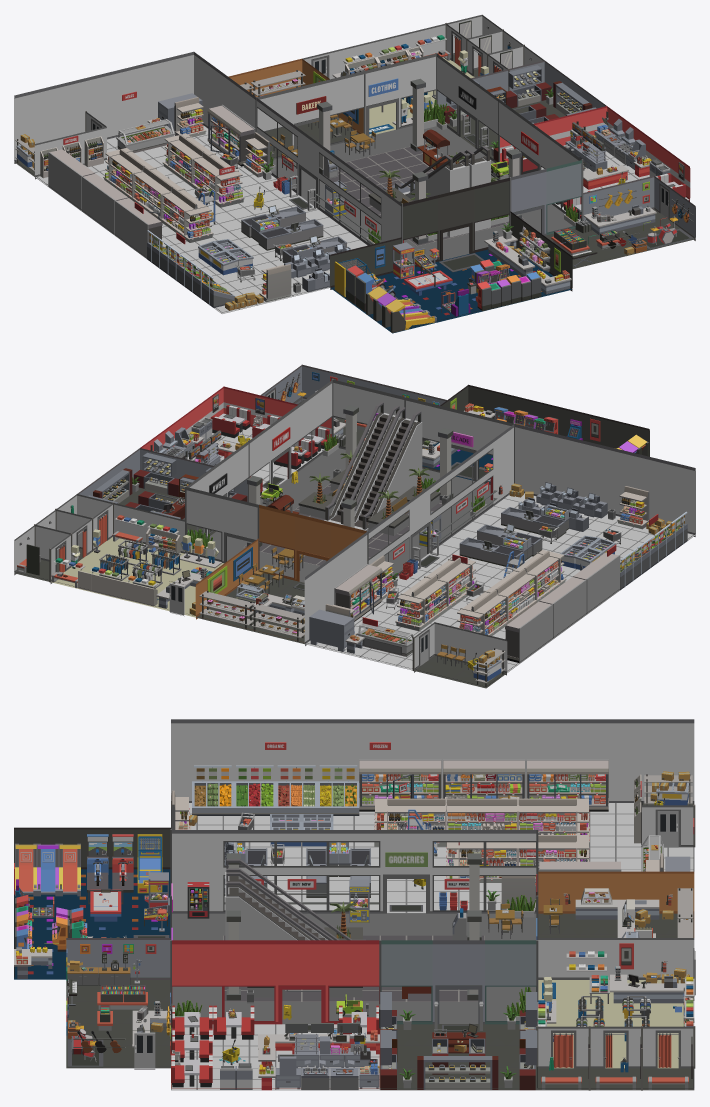
Rendered from _Demo.glb.
3 renders of one model, top to bottom at view 1: azimuth 30°, elevation 25°; view 2: azimuth 150°, elevation 25°; view 3: azimuth 270°, elevation 25°, orthographic. The views are drawn at different scales.
Visible parts, largest first — view 1: SI_Prop_Shelf_Freezer_Preset_01 (×3), SI_Prop_CheckoutCounter_01 (×3), SI_Prop_Shelf_Isle_End_Preset_01 (×3), SI_Env_Wall_Large_Window_25 (×2), SI_Prop_Shelf_Isle_Preset_01 (×2), SI_Prop_Shelf_Isle_Preset_03 (×2), SI_Env_Wall_Large_19, SI_Prop_Shelf_Isle_Preset_Items (×3), SI_Env_Wall_Large_17, SI_Env_Wall_Large_18, SI_Env_Escalator, SI_Env_Wall_Large_16 (+70 smaller); view 2: SI_Prop_Shelf_Freezer_Preset_01 (×3), SI_Env_Escalator, SI_Prop_CheckoutCounter_01 (×3), SI_Env_Wall_01 (×4), SI_Env_Escalator 1, SI_Env_Wall_Large_Window_16 (×2), SI_Prop_Shelf_Isle_Preset_01 (×2), SI_Env_Wall_Large_05, SI_Env_Wall_Large_01, SI_Prop_Shelf_Isle_Preset_03 (×2), SI_Env_Wall_Large_03, SI_Env_Wall_Large_02 (+68 smaller); view 3: SI_Prop_Shelf_Freezer_Preset_01 (×3), SI_Prop_Shelf_Isle_Preset_Items (×5), SI_Env_Wall_Large_Window_13 (×2), SI_Env_Wall_Large_25, SI_Env_Escalator 1, SI_Env_Wall_Large_06, SI_Env_Wall_Large_14, SI_Prop_Shelf_Freezer_Preset_02, SI_Env_Wall_Large_15, SI_Env_Wall_Large_Door_14, SI_Env_Wall_Large_Door_08, SI_Prop_Shelf_Isle_Preset_03 (×2) (+105 smaller).
Part boxes in pixels (x1=…): SI_Prop_Shelf_Freezer_Preset_01 (×3): x1=48, y1=104, x2=255, y2=258; SI_Prop_CheckoutCounter_01 (×3): x1=241, y1=205, x2=346, y2=263; SI_Prop_Shelf_Isle_End_Preset_01 (×3): x1=174, y1=97, x2=291, y2=302; SI_Env_Wall_Large_Window_25 (×2): x1=257, y1=88, x2=581, y2=234; SI_Prop_Shelf_Isle_Preset_01 (×2): x1=160, y1=133, x2=215, y2=242; SI_Prop_Shelf_Isle_Preset_03 (×2): x1=103, y1=148, x2=244, y2=207; SI_Env_Wall_Large_19: x1=122, y1=60, x2=158, y2=135; SI_Prop_Shelf_Isle_Preset_Items (×3): x1=134, y1=162, x2=242, y2=237; SI_Env_Wall_Large_17: x1=50, y1=78, x2=86, y2=140; SI_Env_Wall_Large_18: x1=86, y1=69, x2=122, y2=139; SI_Env_Escalator: x1=383, y1=151, x2=469, y2=237; SI_Env_Wall_Large_16: x1=14, y1=87, x2=50, y2=163; SI_Prop_Shelf_Freezer_Preset_01 (×3): x1=334, y1=552, x2=620, y2=663; SI_Env_Escalator: x1=354, y1=407, x2=422, y2=530; SI_Prop_CheckoutCounter_01 (×3): x1=459, y1=505, x2=569, y2=568; SI_Env_Wall_01 (×4): x1=35, y1=509, x2=507, y2=675; SI_Env_Escalator 1: x1=324, y1=402, x2=400, y2=524; SI_Env_Wall_Large_Window_16 (×2): x1=186, y1=397, x2=441, y2=561; SI_Prop_Shelf_Isle_Preset_01 (×2): x1=395, y1=550, x2=566, y2=630; SI_Env_Wall_Large_05: x1=659, y1=459, x2=695, y2=536; SI_Env_Wall_Large_01: x1=514, y1=424, x2=550, y2=495; SI_Prop_Shelf_Isle_Preset_03 (×2): x1=425, y1=557, x2=508, y2=635; SI_Env_Wall_Large_03: x1=586, y1=441, x2=623, y2=516; SI_Env_Wall_Large_02: x1=550, y1=432, x2=586, y2=497; SI_Prop_Shelf_Freezer_Preset_01 (×3): x1=359, y1=759, x2=621, y2=871; SI_Prop_Shelf_Isle_Preset_Items (×5): x1=376, y1=813, x2=588, y2=878; SI_Env_Wall_Large_Window_13 (×2): x1=223, y1=830, x2=536, y2=1024; SI_Env_Wall_Large_25: x1=172, y1=830, x2=223, y2=913; SI_Env_Escalator 1: x1=225, y1=872, x2=333, y2=940; SI_Env_Wall_Large_06: x1=171, y1=719, x2=223, y2=802; SI_Env_Wall_Large_14: x1=589, y1=719, x2=641, y2=802; SI_Prop_Shelf_Freezer_Preset_02: x1=443, y1=759, x2=525, y2=811; SI_Env_Wall_Large_15: x1=642, y1=719, x2=694, y2=802; SI_Env_Wall_Large_Door_14: x1=275, y1=940, x2=327, y2=1024; SI_Env_Wall_Large_Door_08: x1=432, y1=940, x2=484, y2=1024; SI_Prop_Shelf_Isle_Preset_03 (×2): x1=446, y1=797, x2=589, y2=882.
Bounding box in the file's own units: 65.2 × 11.6 × 65.17.
Materials: 2 (2 with a texture image).
